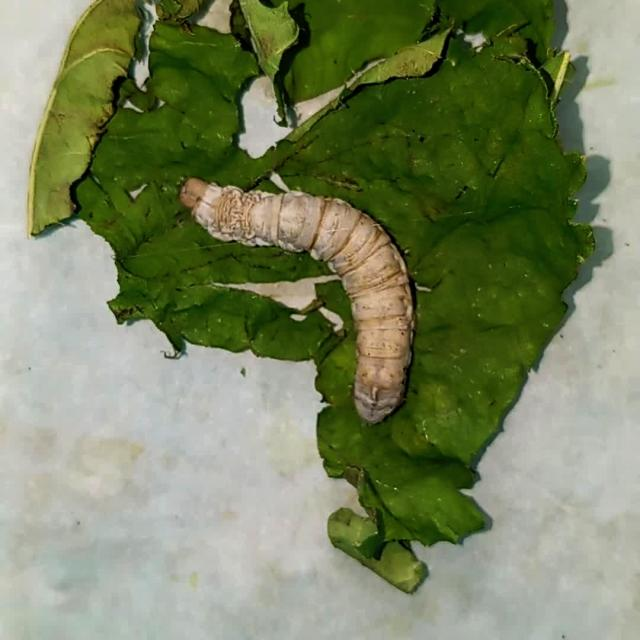Grasserie: (172, 166, 428, 423)
